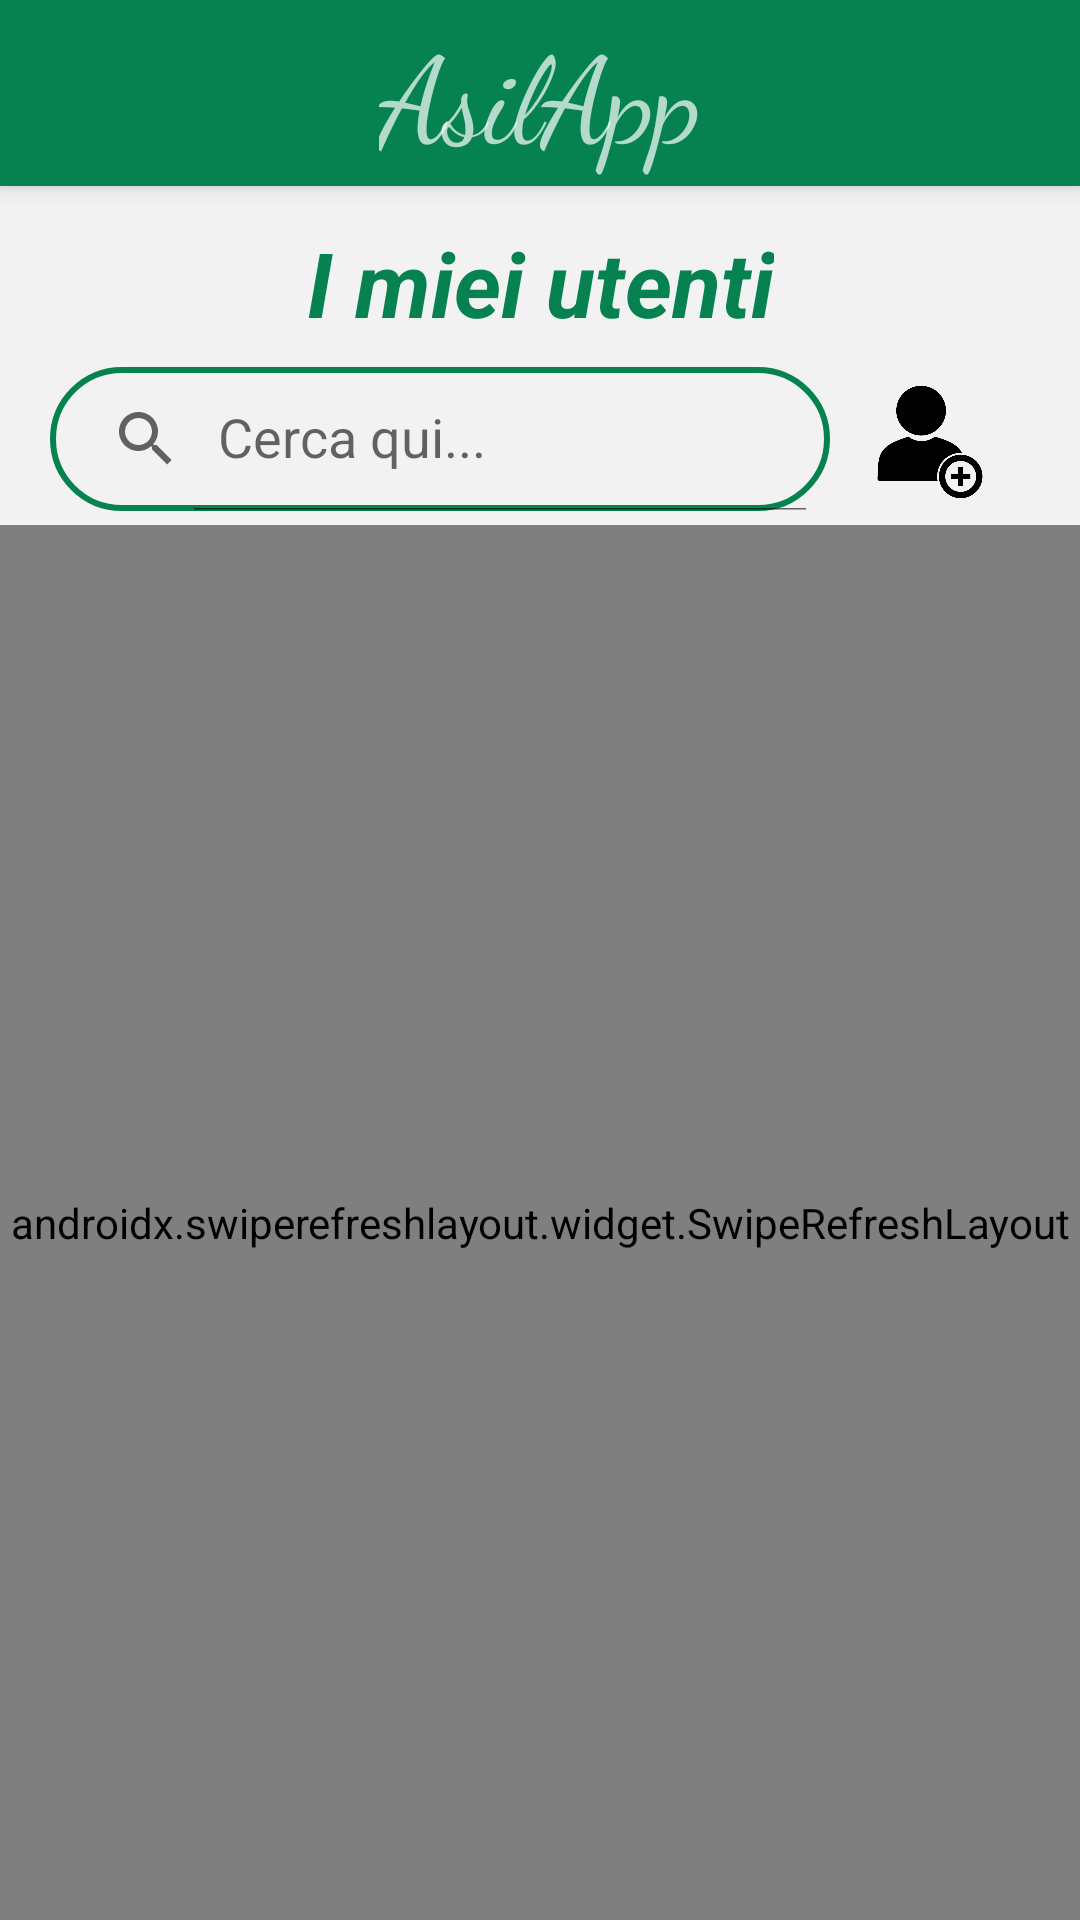

Icons on this 1080x1920 Android screen, each with its box as (x1, y1, x2, y2):
add user: (877, 386, 983, 498)
